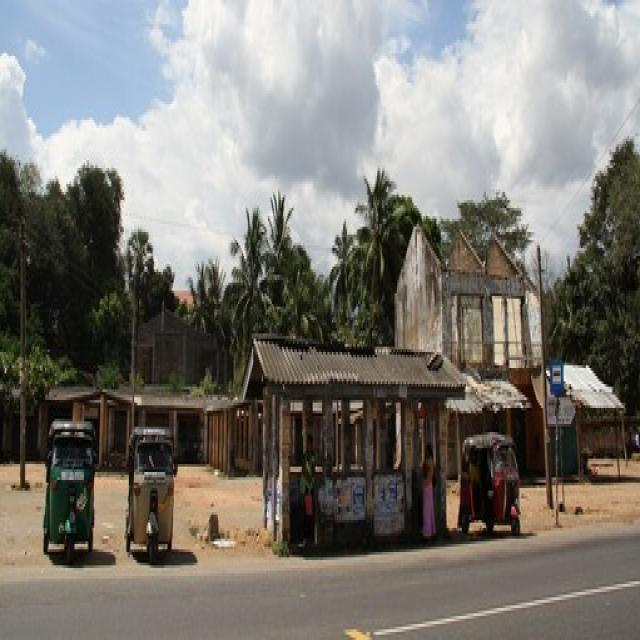person: (299, 437, 314, 541), (422, 445, 435, 541)
three wheeler: (44, 421, 94, 563), (125, 429, 177, 565), (458, 437, 519, 536)
